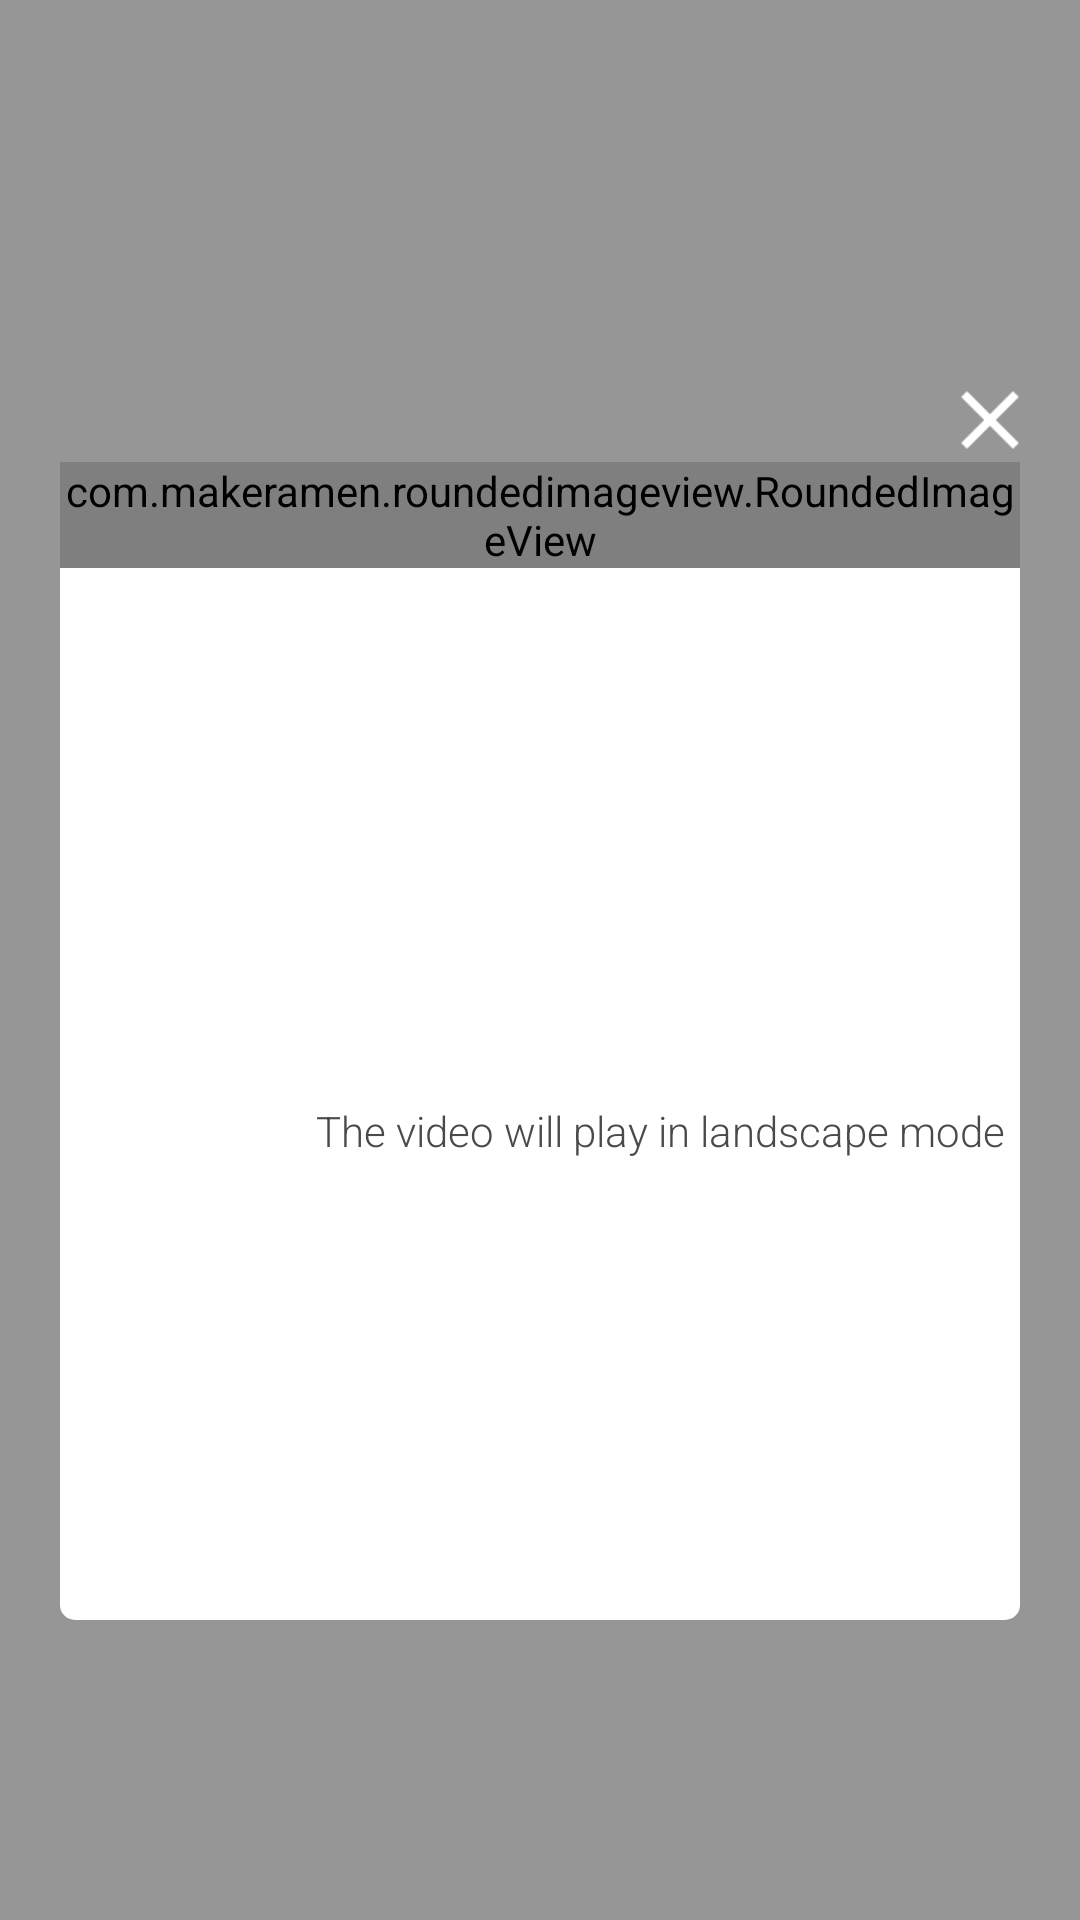

Screen size 1080 x 1920. Icon name, then its center in pixels as [x,y]:
close: [990,420]
